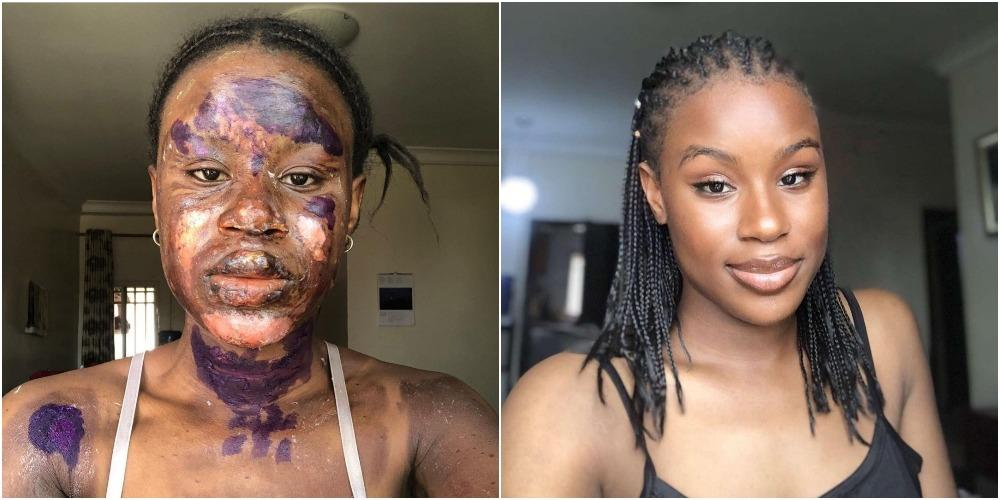burned-skin: (175, 330, 327, 472), (169, 80, 340, 161), (6, 393, 102, 484), (214, 248, 285, 337), (155, 185, 209, 297), (291, 189, 344, 289), (222, 177, 283, 237)
